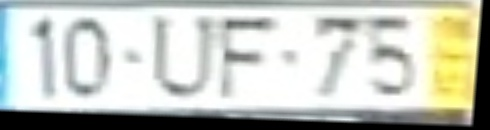0: (58, 16, 117, 103)
1: (22, 15, 61, 103)
5: (360, 17, 421, 102)
7: (308, 14, 366, 105)
F: (214, 16, 280, 104)
U: (146, 15, 215, 102)
